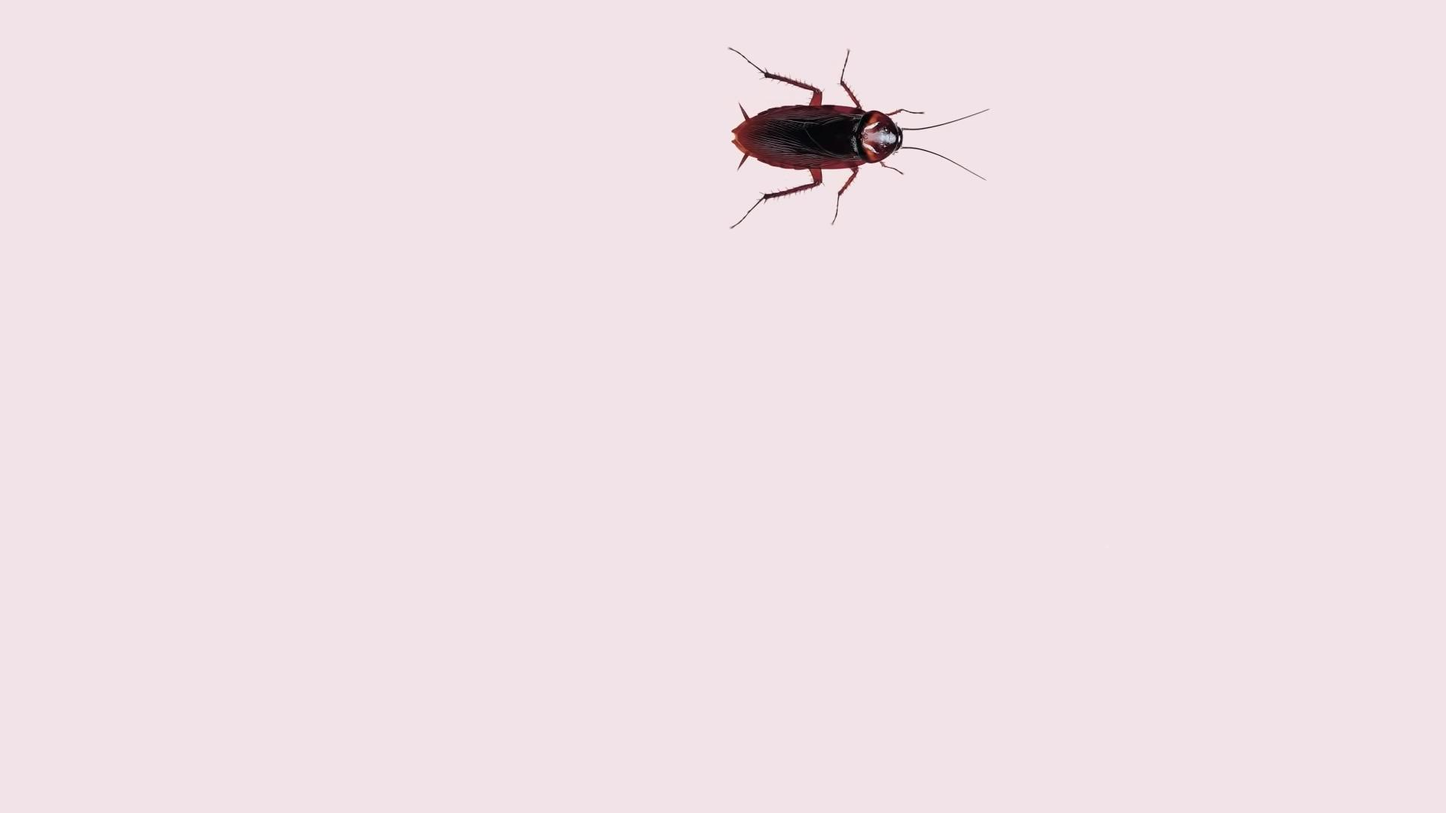cockroach: (701, 31, 974, 223)
